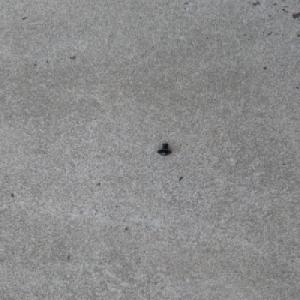BoltWasher: (156, 143, 172, 155)
